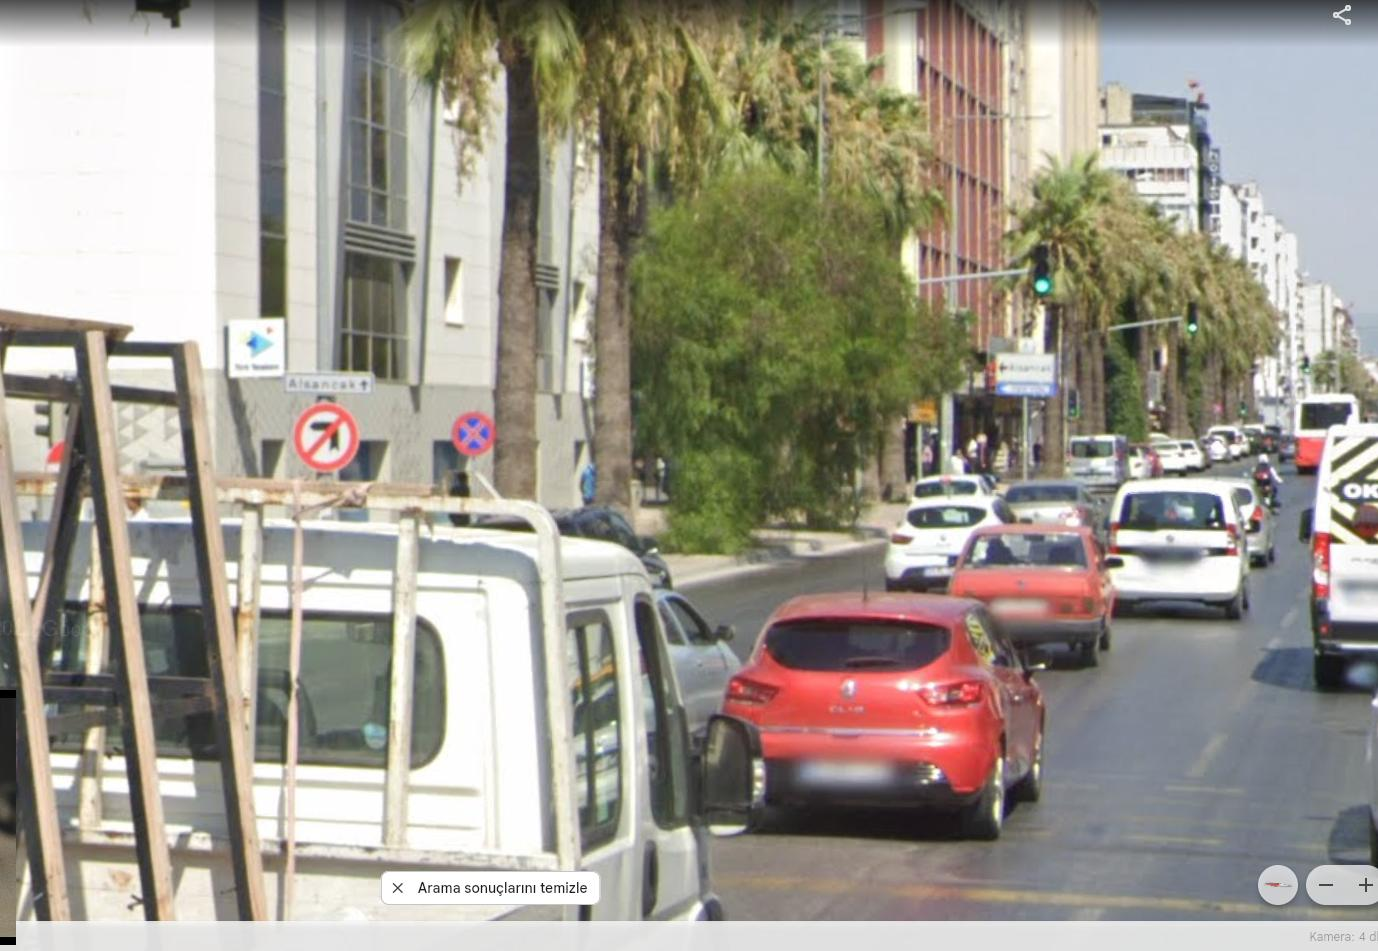greenlight: (1032, 244, 1053, 296), (1185, 303, 1200, 335)
leftturnsareforbidden: (296, 407, 359, 466)
